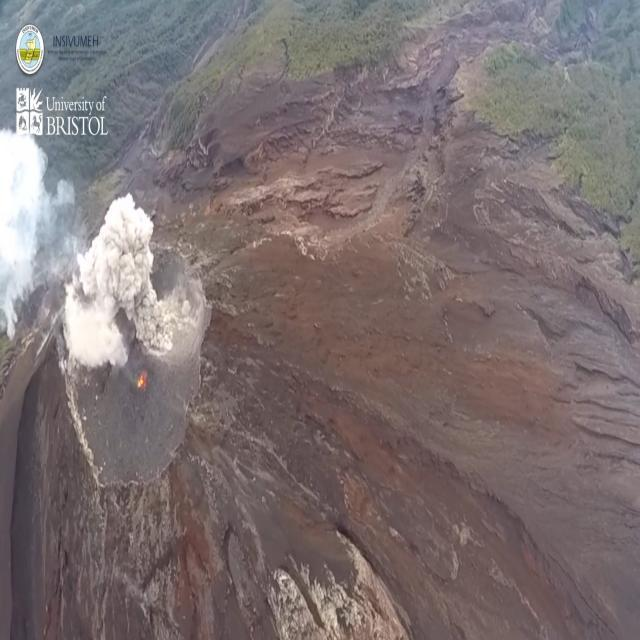Plume: (62, 196, 174, 372), (0, 112, 44, 343)
Summit: (42, 212, 218, 496)
